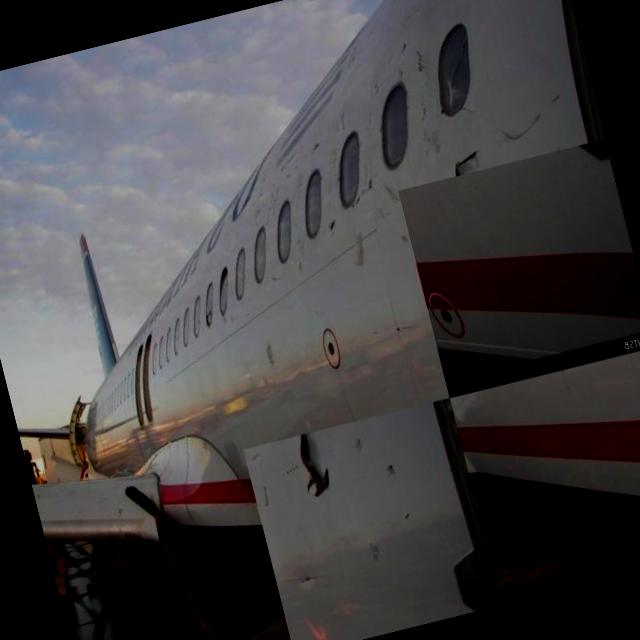crack: (289, 430, 337, 503), (439, 144, 492, 180)
